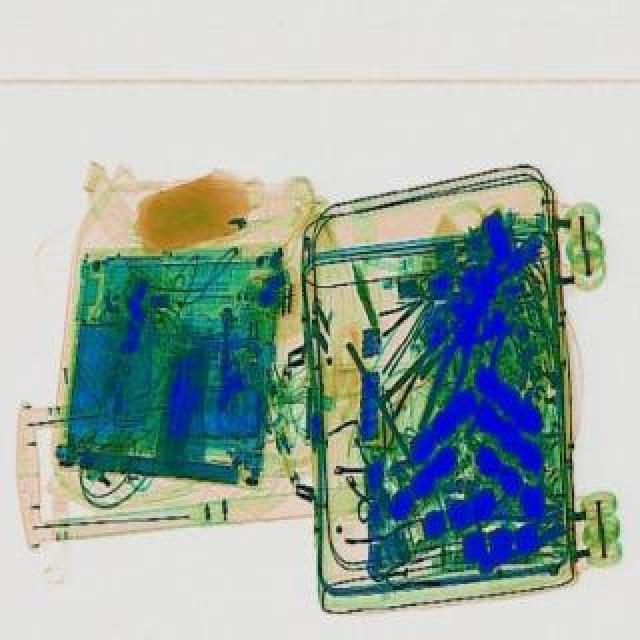wrench: (414, 310, 486, 430)
